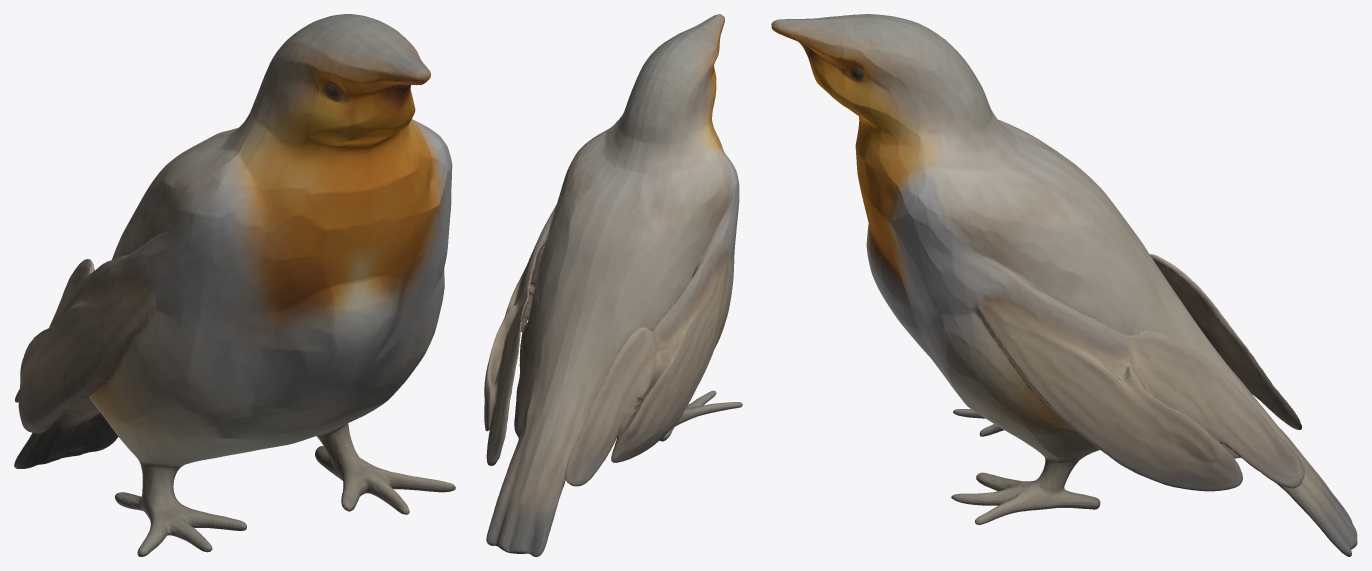
Rendered from robin.glb.
The picture shows the model from 3 angles, left to right: view 1: azimuth 30°, elevation 25°; view 2: azimuth 150°, elevation 25°; view 3: azimuth 270°, elevation 25°; orthographic projection. The views are drawn at different scales.
Visible parts, largest first — view 1: world; view 2: world; view 3: world.
Part boxes in pixels (left/top/right/bottom): world: left=14, top=14, right=455, bottom=556; world: left=484, top=14, right=742, bottom=556; world: left=771, top=14, right=1357, bottom=556.
Size of the model in its own units: 0.5185 by 0.9894 by 0.9988.
